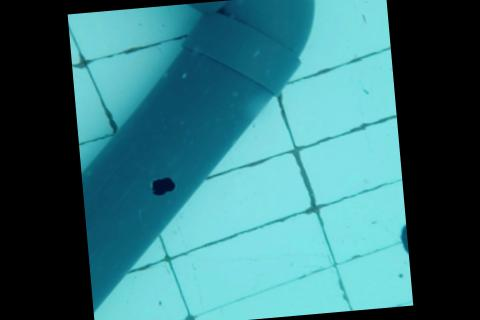kebocoran: (147, 176, 177, 198)
